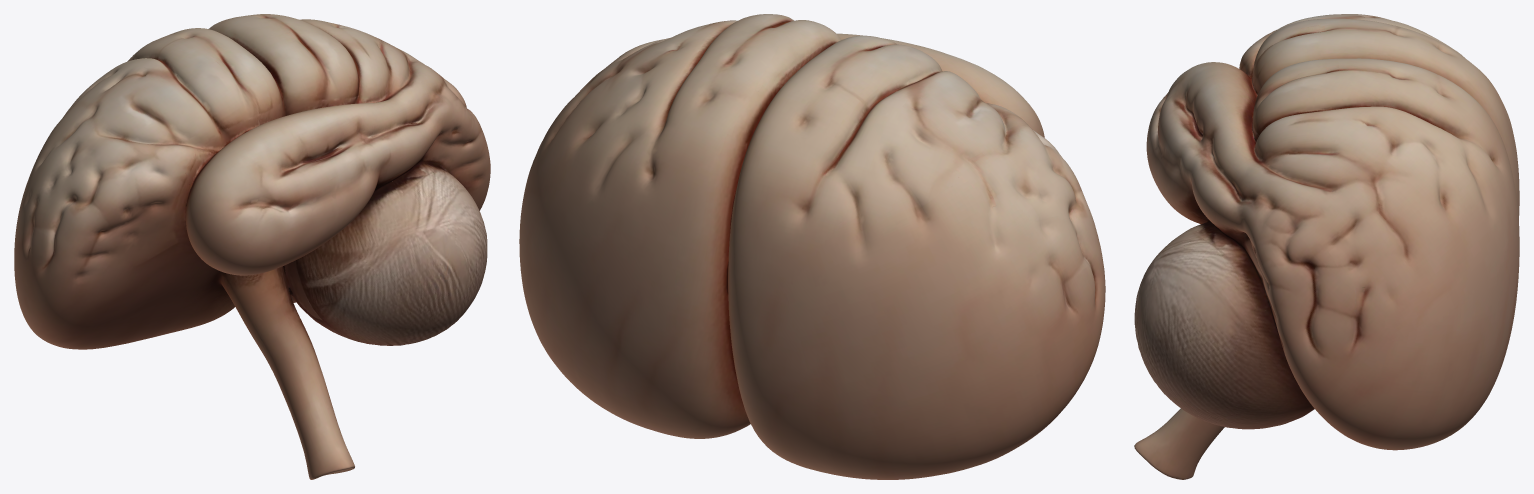
The model's file is horse_brain.glb.
3 views of the same model, side by side, from view 1: azimuth 30°, elevation 25°; view 2: azimuth 150°, elevation 25°; view 3: azimuth 270°, elevation 25° (orthographic). The views are drawn at different scales.
Parts seen in each view (by area): view 1: model; view 2: model; view 3: model.
Boxes of the visible parts, left/top/right/bottom form: model: left=14, top=14, right=490, bottom=479; model: left=519, top=14, right=1105, bottom=479; model: left=1134, top=14, right=1519, bottom=479.
Bounding box in the file's own units: 1.9 × 1.57 × 1.28.
1 material, 1 textured.
